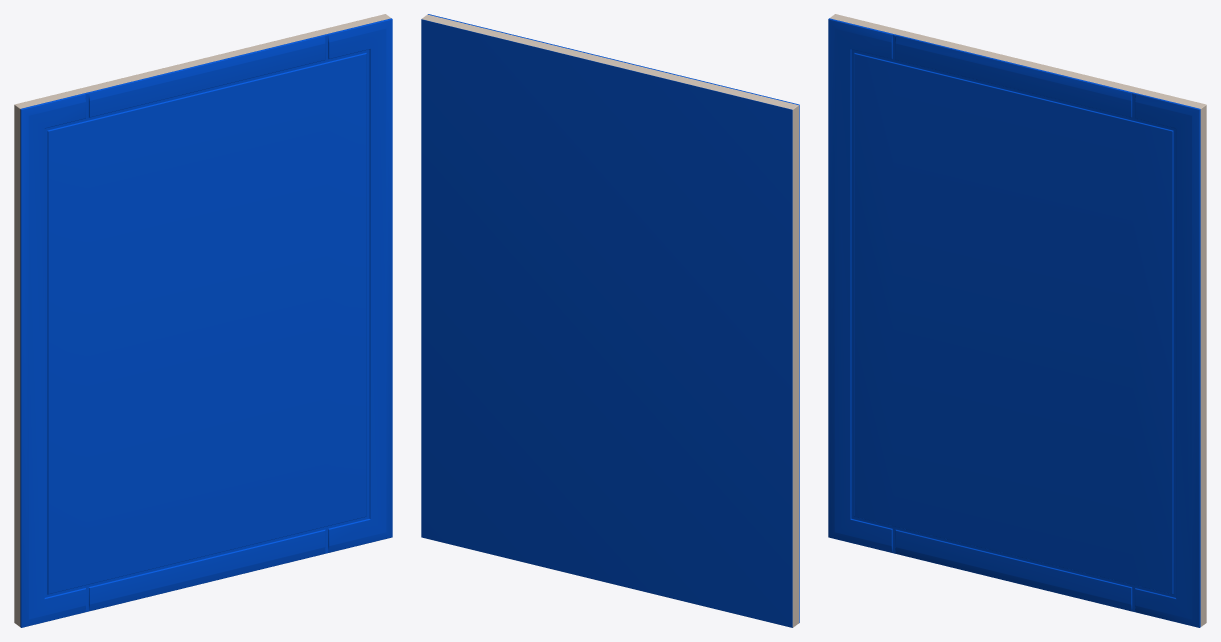
The model's file is Frame-M.glb.
3 views of the same model, side by side, from view 1: azimuth 30°, elevation 25°; view 2: azimuth 150°, elevation 25°; view 3: azimuth 330°, elevation 25° (orthographic).
Parts seen in each view (by area): view 1: frame; view 2: frame; view 3: frame.
Boxes of the visible parts, x1=… form: frame: x1=14, y1=14, x2=392, y2=627; frame: x1=421, y1=14, x2=799, y2=627; frame: x1=828, y1=14, x2=1206, y2=627.
Size of the model in its own units: 0.9 by 1.2 by 0.0324.
